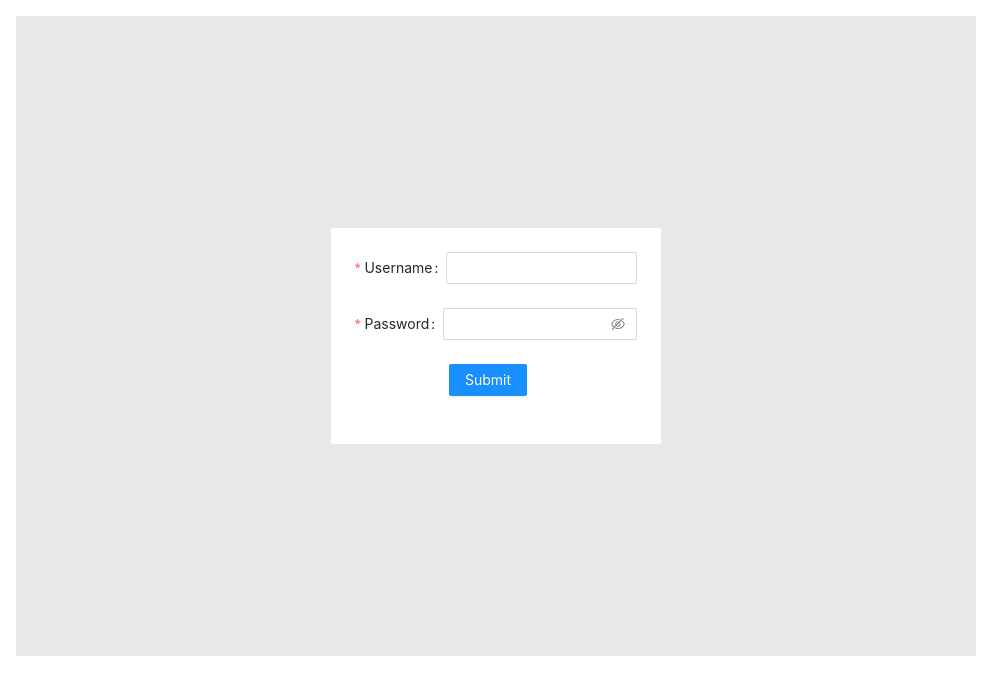
Scenario: <LoginForm /> User Event Test › password가 빈 값인 상태에서 submit 버튼 클릭
The width and height of the screenshot is (993, 673).
Step 1. Type "jay" into the field labelled "Username" → (542, 268), box [446,252,637,284]
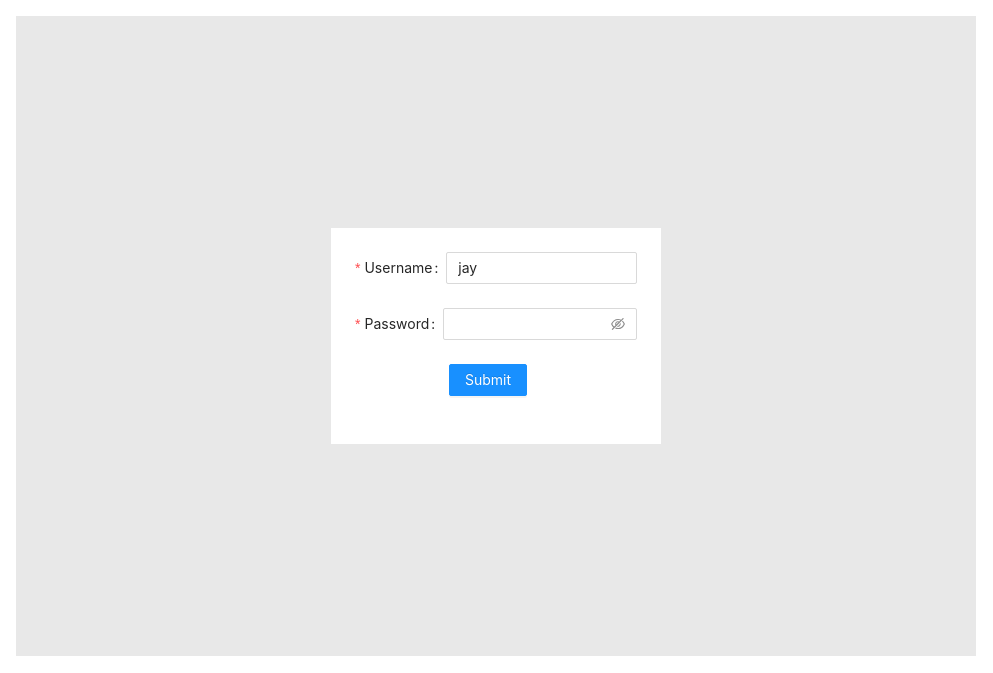
Step 2. Click the button "Submit" → (488, 380), box [449,364,527,396]
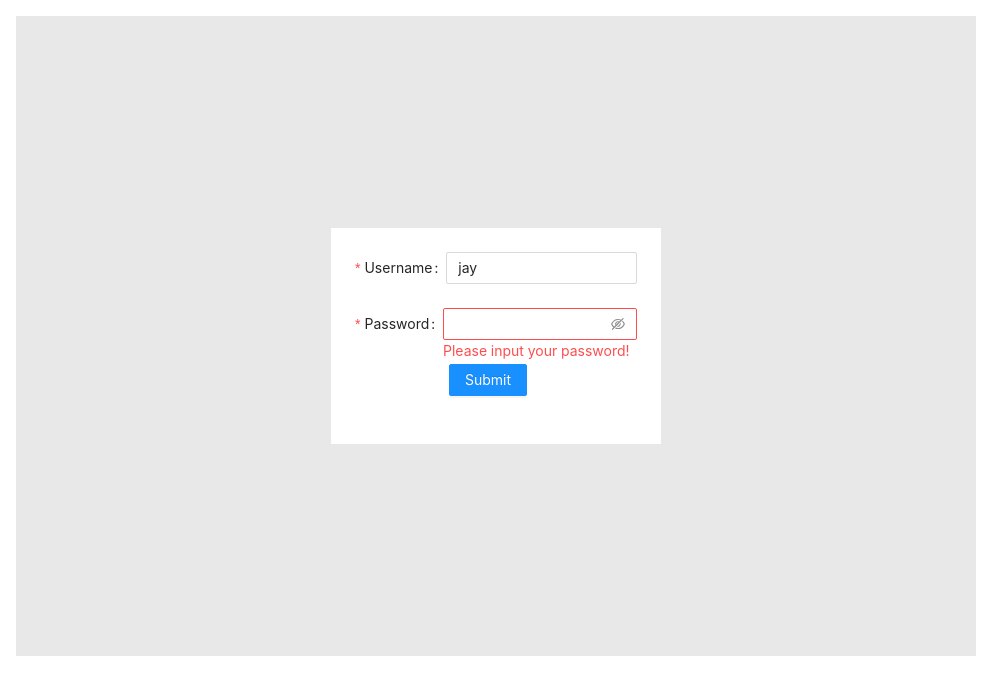
Result: the text "Please input your password!" is shown at [443,340,637,362]
